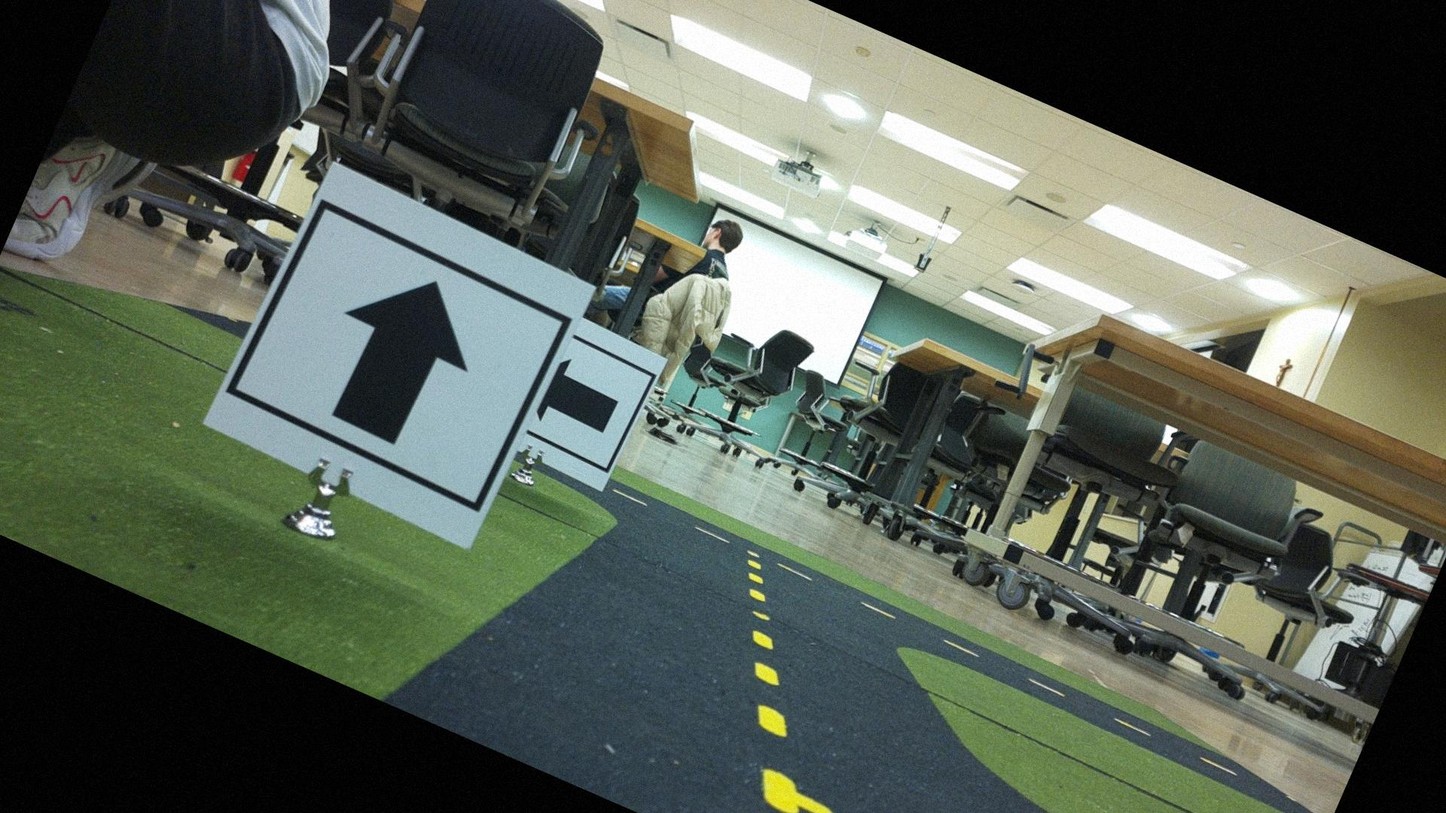gostraight: (212, 167, 592, 556)
yellowline: (661, 550, 881, 812)
